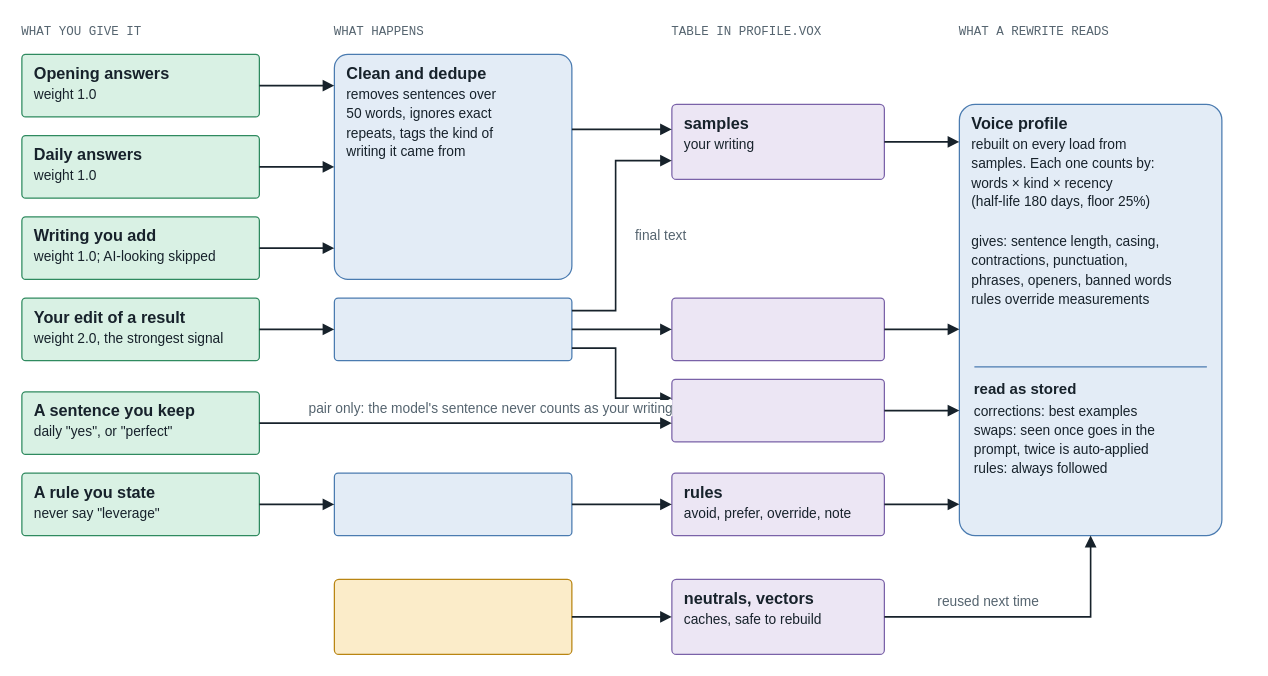
The diagram is 1268 pixels wide and 676 high, and some of its shapes have lost their labels. The centre of each missing label's shape, as x and y in pixels:
Compare with the draft word diff, edit similarity: (452,329)
corrections before/after pairs: (777,410)
During a rewrite the model writes a stiff AI version of your passage: (452,616)
Parse the rule unclear ones become notes: (452,504)
swaps "utilize" to "use", with count: (777,329)
